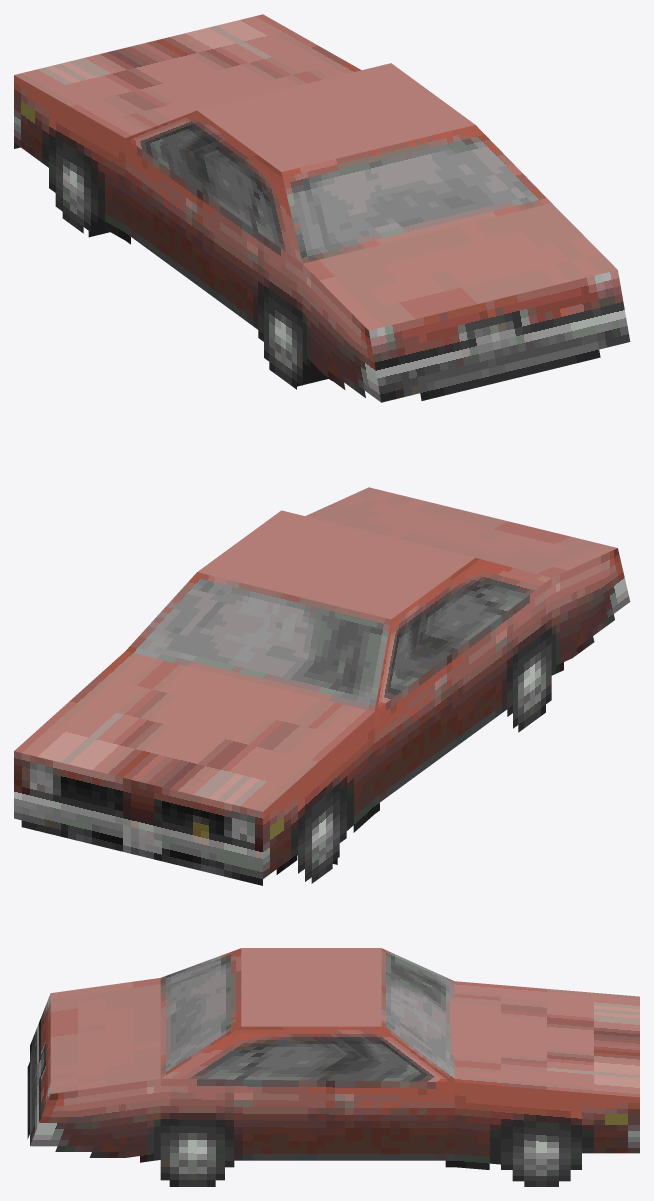
File: car-lemans-plt1.glb
3 views of the same model, one above another, from view 1: azimuth 30°, elevation 25°; view 2: azimuth 150°, elevation 25°; view 3: azimuth 270°, elevation 25° (orthographic). The views are drawn at different scales.
Parts seen in each view (by area): view 1: car-lemans-plt1; view 2: car-lemans-plt1; view 3: car-lemans-plt1.
Part boxes in pixels (x1,y1,x2,y2): car-lemans-plt1: [14, 14, 630, 402]; car-lemans-plt1: [14, 487, 630, 885]; car-lemans-plt1: [27, 948, 639, 1186].
Bounding box in the file's own units: 1.98 × 1.37 × 5.2.
Materials: 16 (16 with a texture image).
